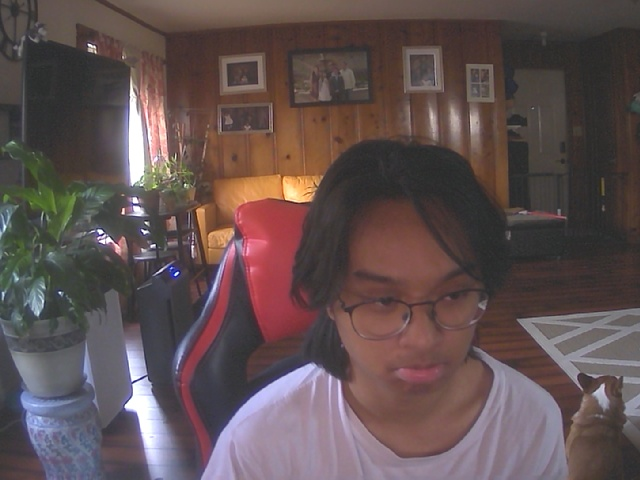sad: (323, 151, 501, 404)
